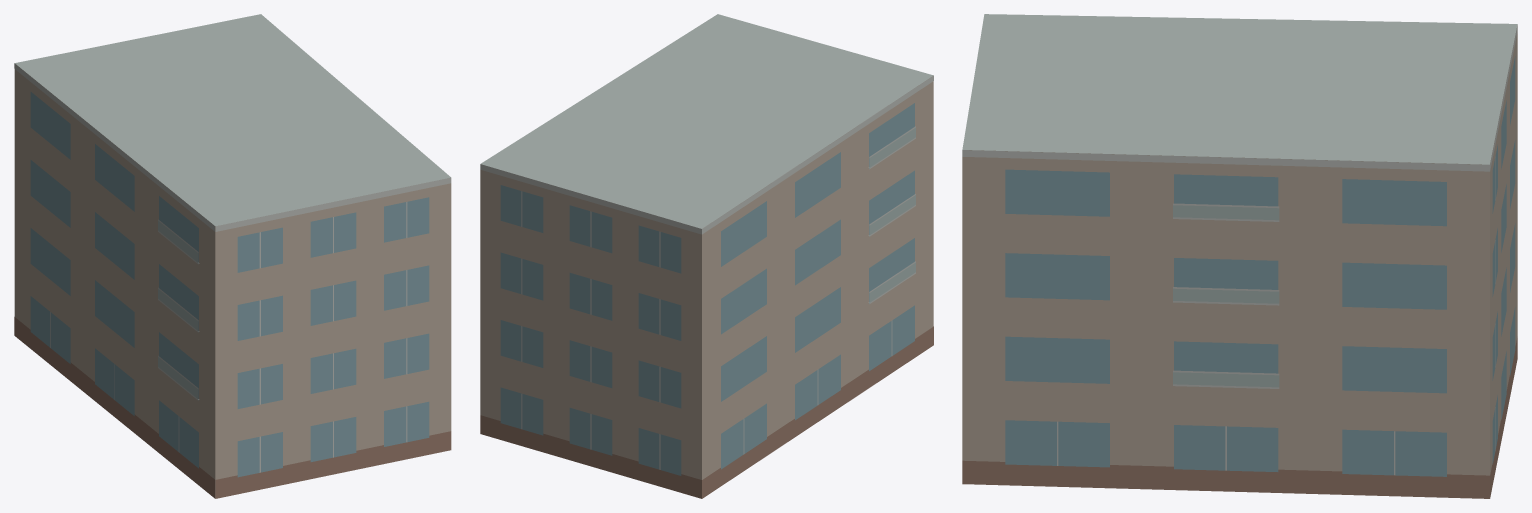
Rendered from survey-upis-32937841.glb.
3 views of the same model, side by side, from view 1: azimuth 30°, elevation 25°; view 2: azimuth 150°, elevation 25°; view 3: azimuth 270°, elevation 25° (orthographic). The views are drawn at different scales.
Parts seen in each view (by area): view 1: survey-upis-32937841.tmp; view 2: survey-upis-32937841.tmp; view 3: survey-upis-32937841.tmp.
Boxes of the visible parts, <box> form: survey-upis-32937841.tmp: <box>14,14,451,498</box>; survey-upis-32937841.tmp: <box>480,14,933,498</box>; survey-upis-32937841.tmp: <box>962,14,1517,498</box>.
Bounding box in the file's own units: 11.32 × 11.7 × 17.63.
